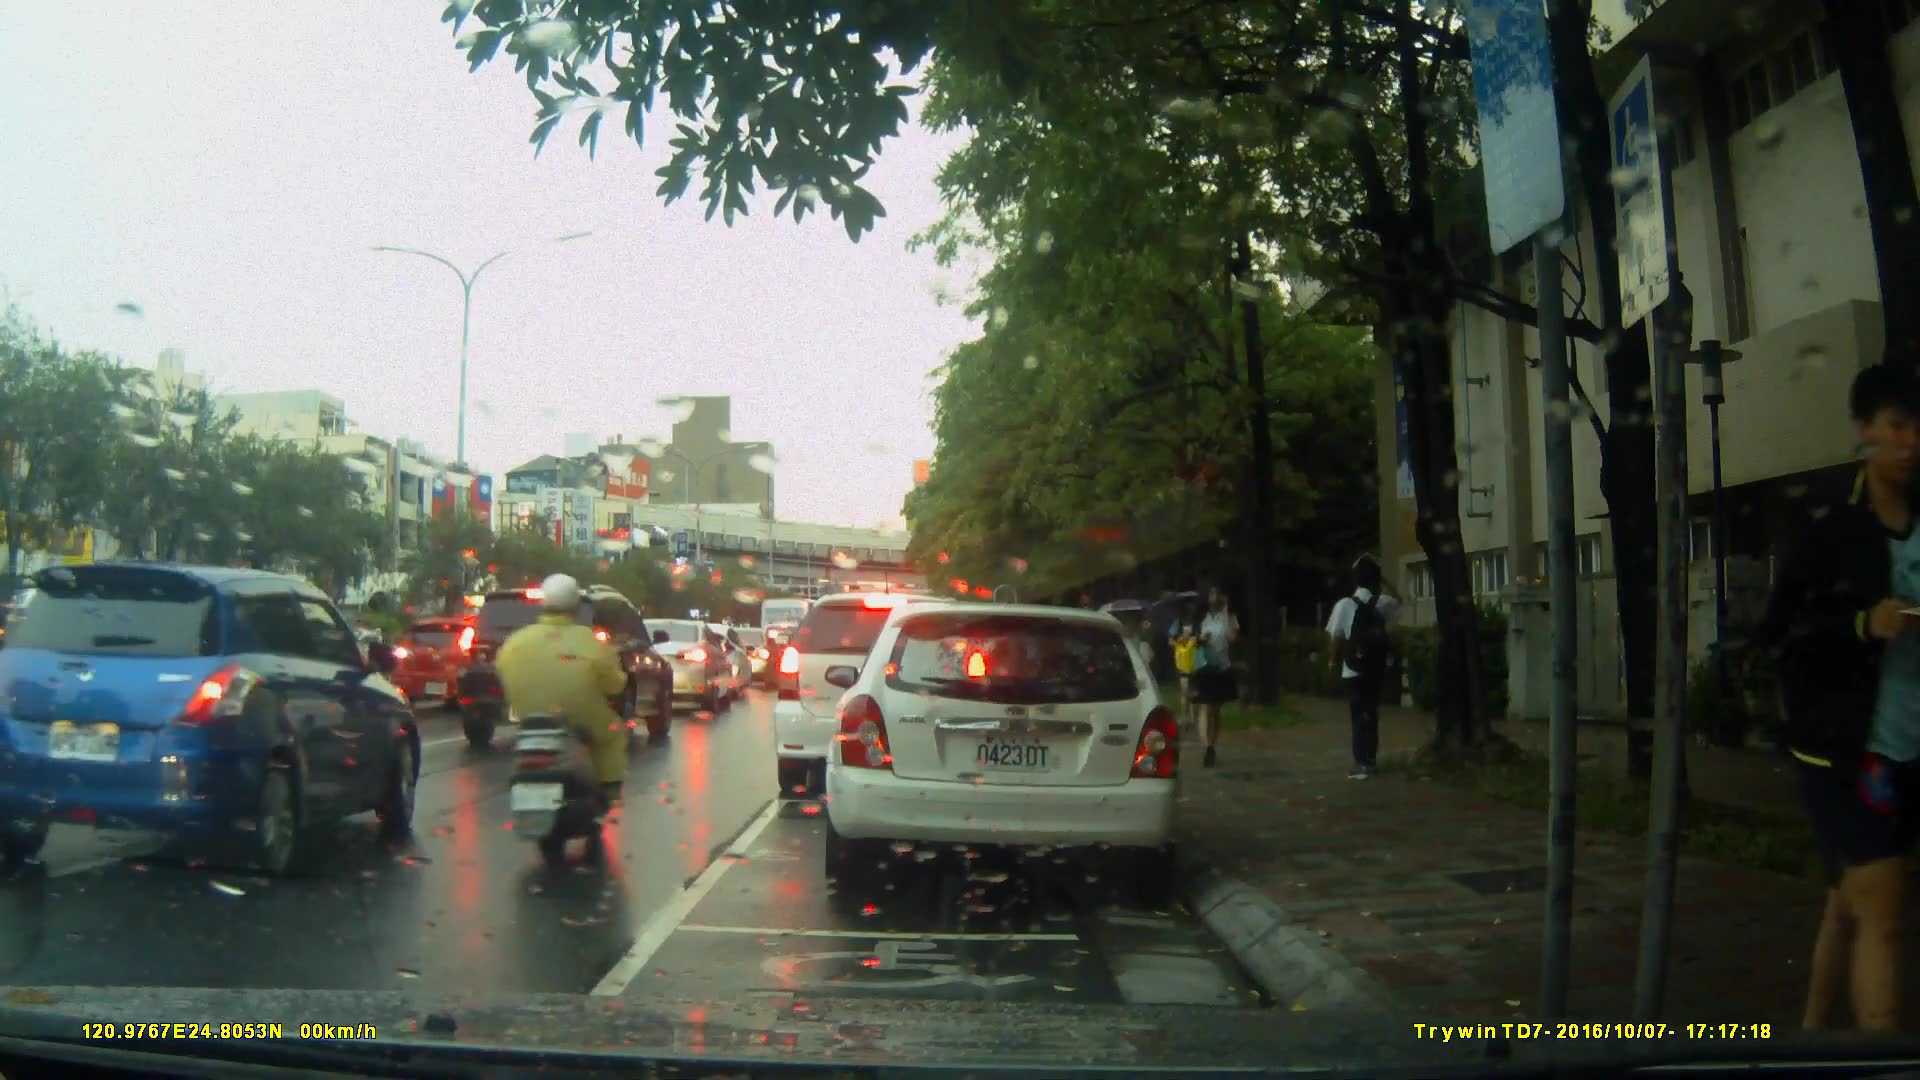pedestrian: (1780, 372, 1920, 1029), (1308, 549, 1422, 796), (1177, 565, 1244, 767), (1165, 588, 1209, 742)
rider: (496, 575, 635, 867)
vehicle: (1, 561, 426, 884), (815, 593, 1203, 905), (771, 590, 995, 802), (453, 586, 676, 753), (385, 613, 539, 713), (605, 617, 734, 718)
